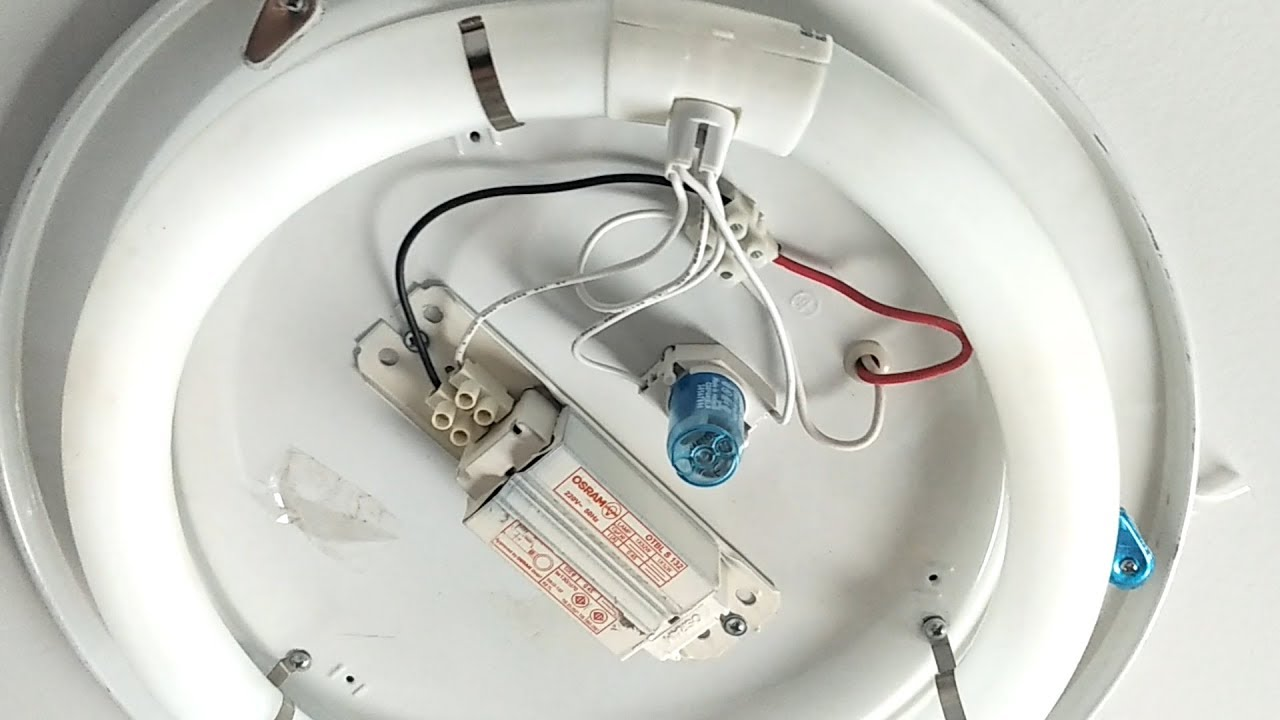Light_bulb: (46, 1, 1146, 720)
